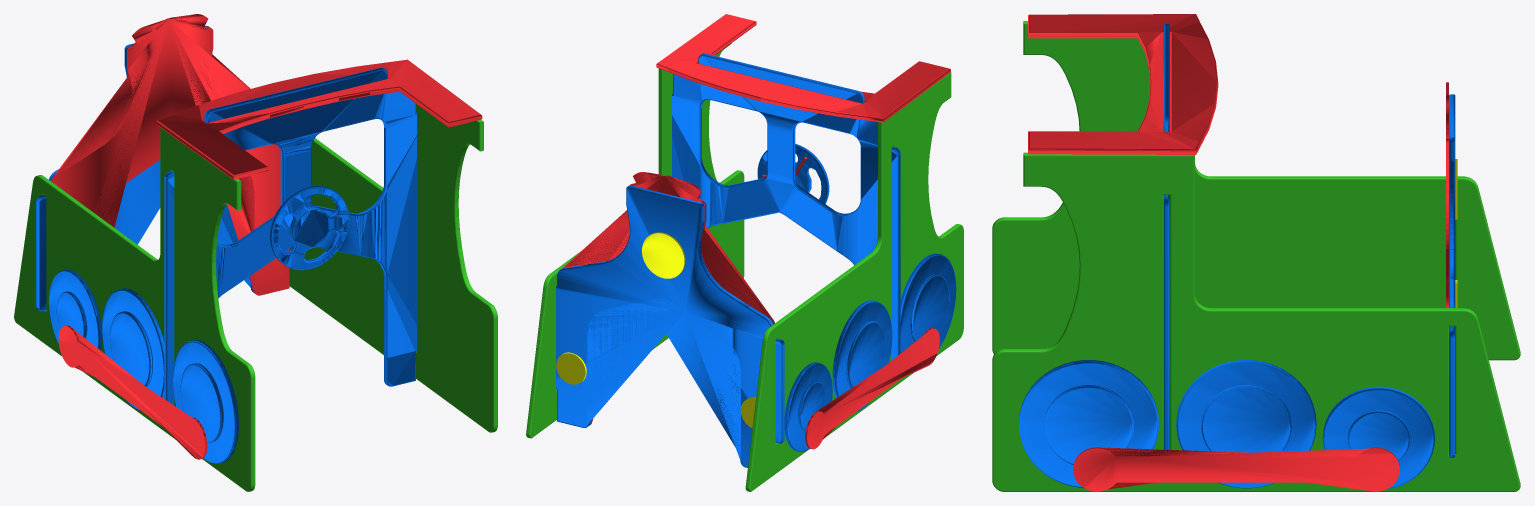
3 renders of one model, left to right at view 1: azimuth 30°, elevation 25°; view 2: azimuth 150°, elevation 25°; view 3: azimuth 270°, elevation 25°, orthographic. The views are drawn at different scales.
Parts seen in each view (by area): view 1: D_19_4; view 2: D_19_4; view 3: D_19_4.
Part boxes in pixels (x1,y1,x2,y2): D_19_4: (14, 14, 497, 491); D_19_4: (526, 14, 963, 491); D_19_4: (992, 14, 1520, 491).
Bounding box in the file's own units: 110 × 126 × 169.
